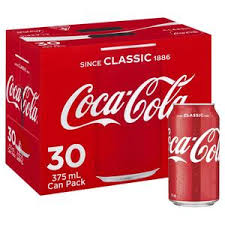coke: (60, 75, 186, 136), (7, 71, 46, 125), (169, 132, 222, 169)
ww: (65, 69, 187, 137)
